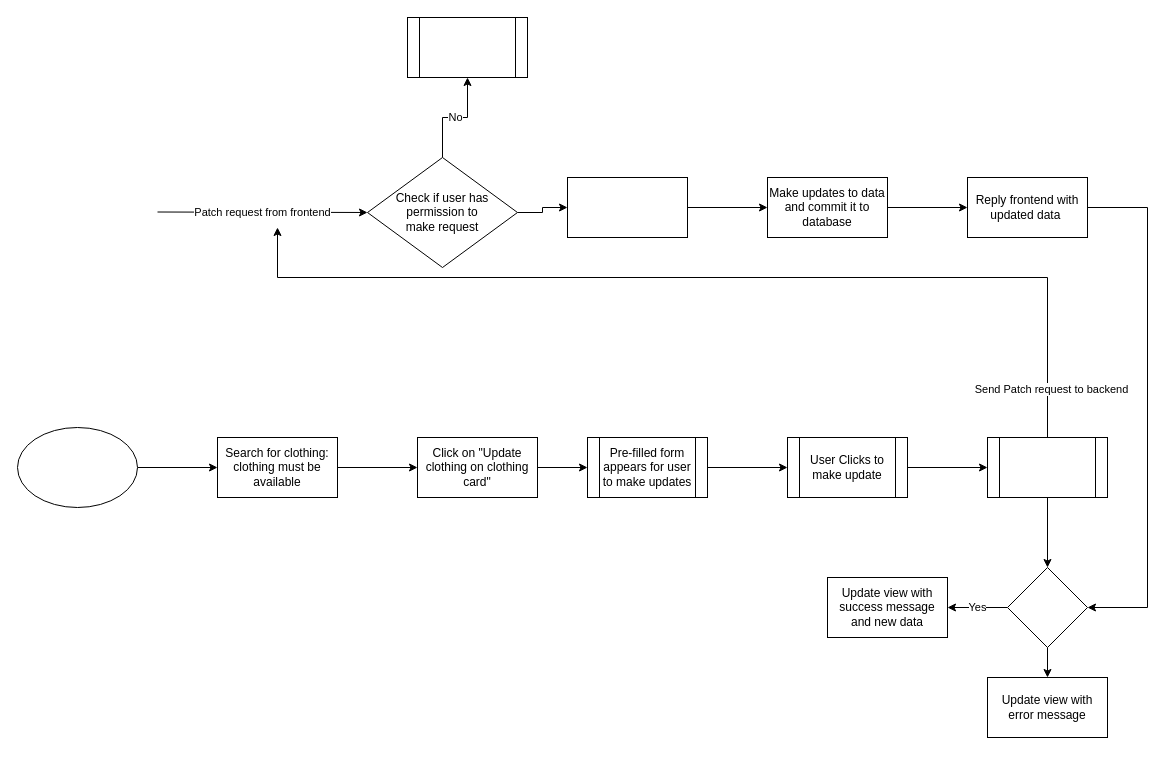
This 1173x763 diagram has some shape labels left out. Each missing label, with the centre of its shape:
"makes a patch request to backend" belongs at (1047,467).
"Patch was successful?" belongs at (1047,607).
"Reply with authentication error" belongs at (467,47).
"Retrieve Clothing from database" belongs at (627,207).
"User enters system" belongs at (77,467).
